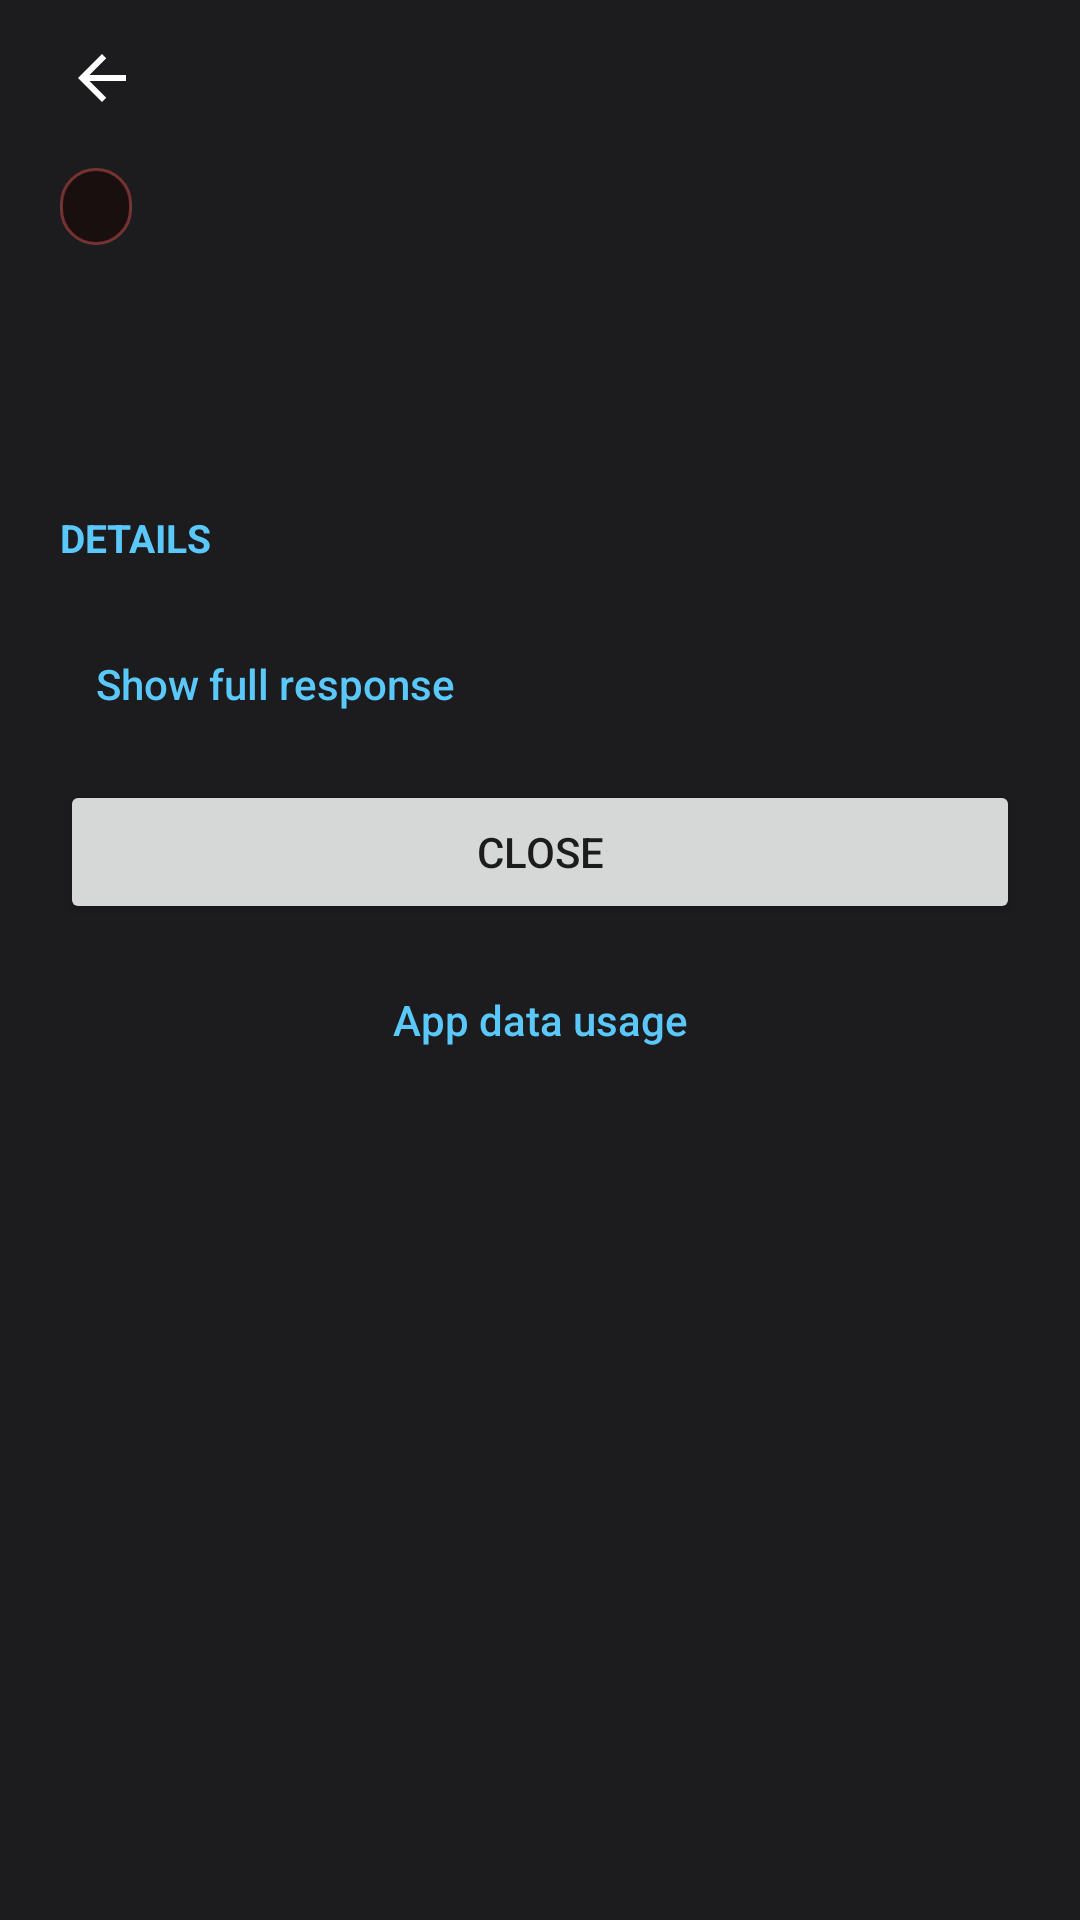

Point at icon controls on the screen. Image size 1080x1920, points as [x,y].
Back: [102,78]
